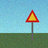sign: (25, 9, 39, 40)
